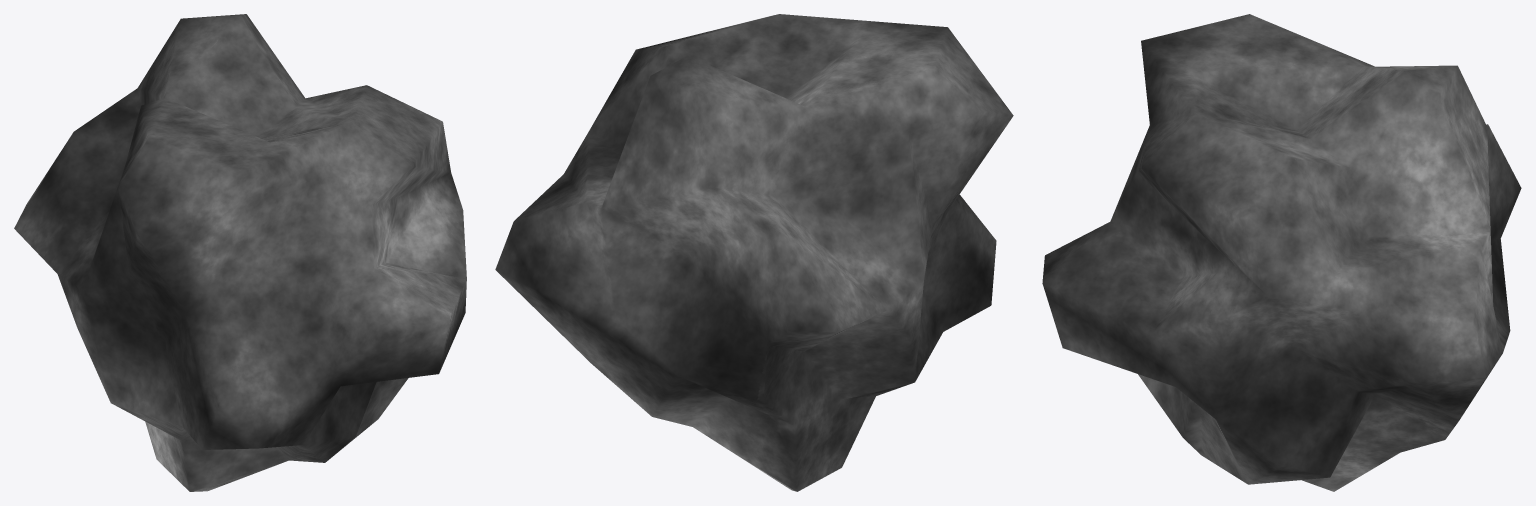
The model's file is asteroid_1.glb.
The picture shows the model from 3 angles, left to right: view 1: azimuth 30°, elevation 25°; view 2: azimuth 150°, elevation 25°; view 3: azimuth 270°, elevation 25°; orthographic projection. The views are drawn at different scales.
Visible parts, largest first — view 1: asteroid_model_1.001; view 2: asteroid_model_1.001; view 3: asteroid_model_1.001.
Part boxes in pixels (left/top/right/bottom): asteroid_model_1.001: left=14, top=14, right=466, bottom=491; asteroid_model_1.001: left=495, top=14, right=1013, bottom=491; asteroid_model_1.001: left=1042, top=14, right=1521, bottom=491.
Size of the model in its own units: 1.11 by 1.27 by 1.21.
Materials: 1 (1 with a texture image).
